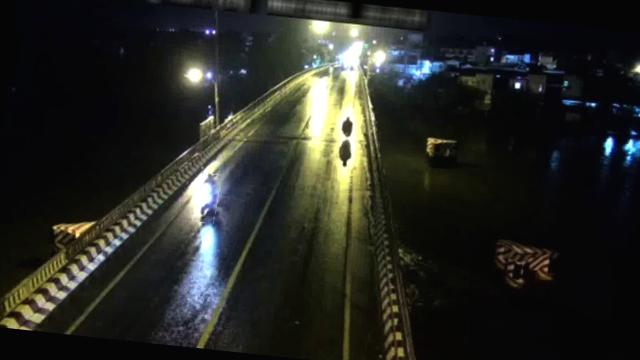Bike: (194, 173, 221, 224), (339, 114, 356, 143)
